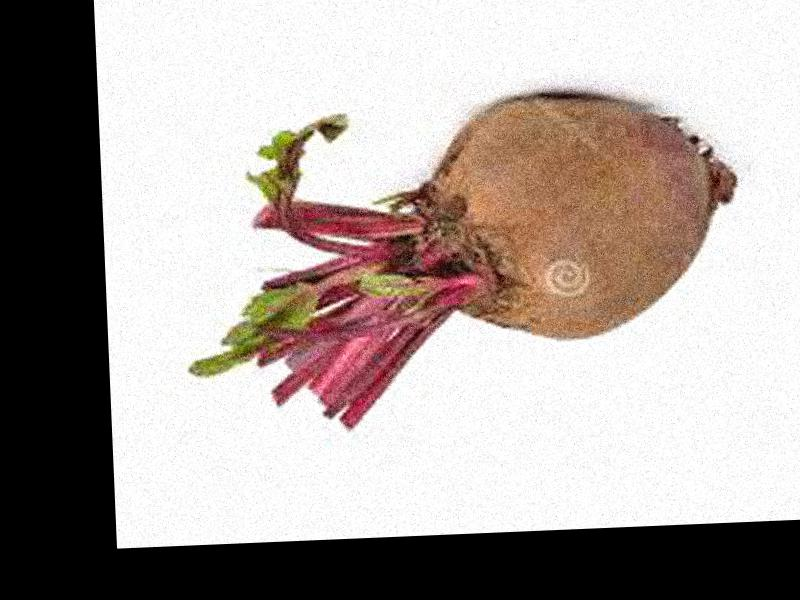Beet: (181, 91, 746, 432)
